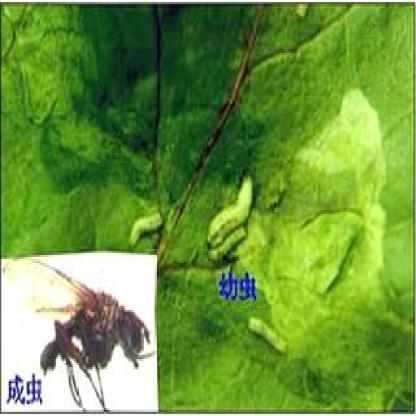whorl-maggot: (204, 169, 256, 266), (246, 312, 293, 358), (128, 207, 166, 246)
